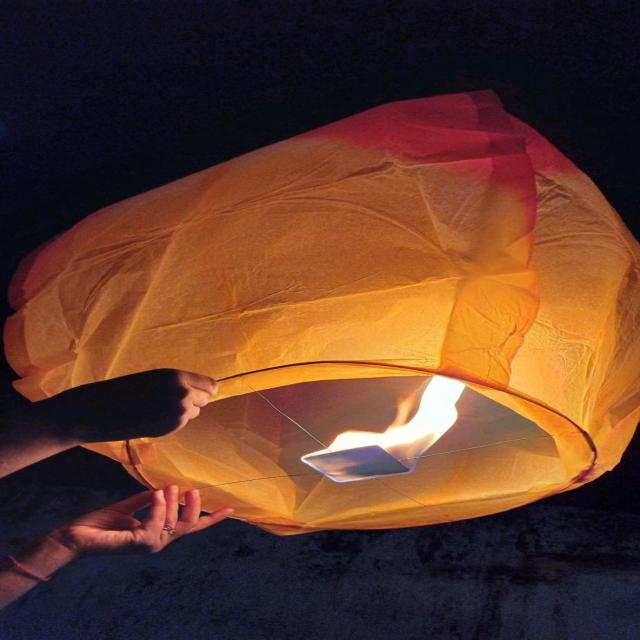fire: (295, 376, 465, 484)
